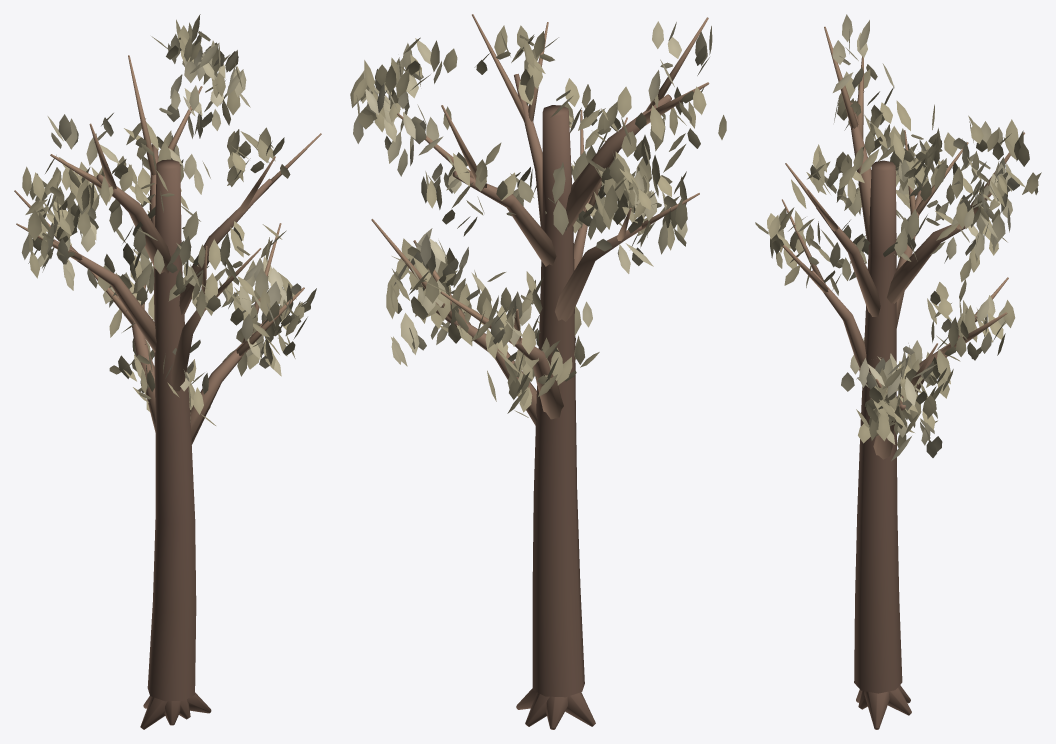
The model's file is tree_3d_02_golden_beige.glb.
3 views of the same model, side by side, from view 1: azimuth 30°, elevation 25°; view 2: azimuth 150°, elevation 25°; view 3: azimuth 270°, elevation 25° (orthographic). The views are drawn at different scales.
Parts seen in each view (by area): view 1: tree_3d_02_golden_beige_foliage, tree_3d_02_golden_beige_wood; view 2: tree_3d_02_golden_beige_foliage, tree_3d_02_golden_beige_wood; view 3: tree_3d_02_golden_beige_foliage, tree_3d_02_golden_beige_wood.
Part boxes in pixels (x1,y1,x2,y2): tree_3d_02_golden_beige_foliage: (21, 14, 316, 425); tree_3d_02_golden_beige_wood: (14, 55, 321, 729); tree_3d_02_golden_beige_foliage: (350, 21, 726, 417); tree_3d_02_golden_beige_wood: (371, 14, 709, 729); tree_3d_02_golden_beige_foliage: (755, 14, 1041, 461); tree_3d_02_golden_beige_wood: (782, 26, 1024, 729).
Bounding box in the file's own units: 5.56 × 12.06 × 4.9.
